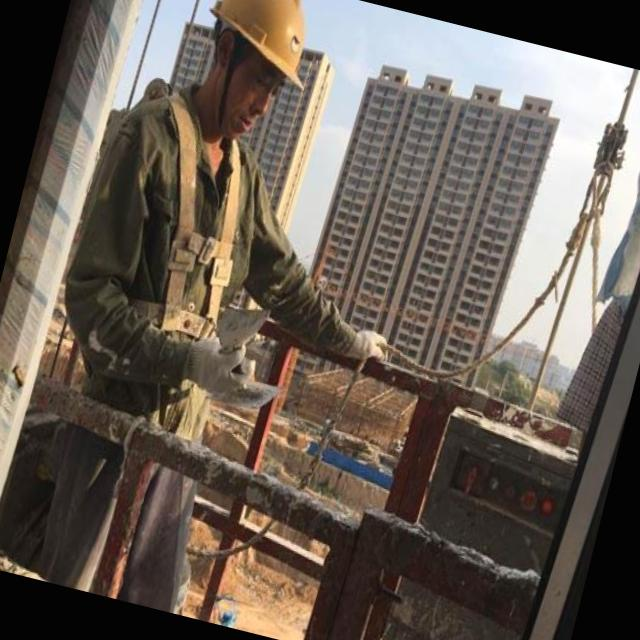helmet: (191, 0, 344, 98)
no-goggles: (216, 61, 294, 110)
no-vest: (47, 99, 280, 433)
